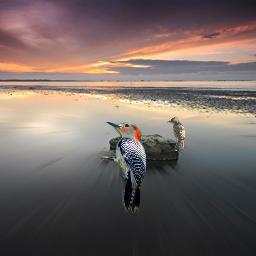Woodpecker: (99, 122, 146, 213), (167, 117, 185, 151)
